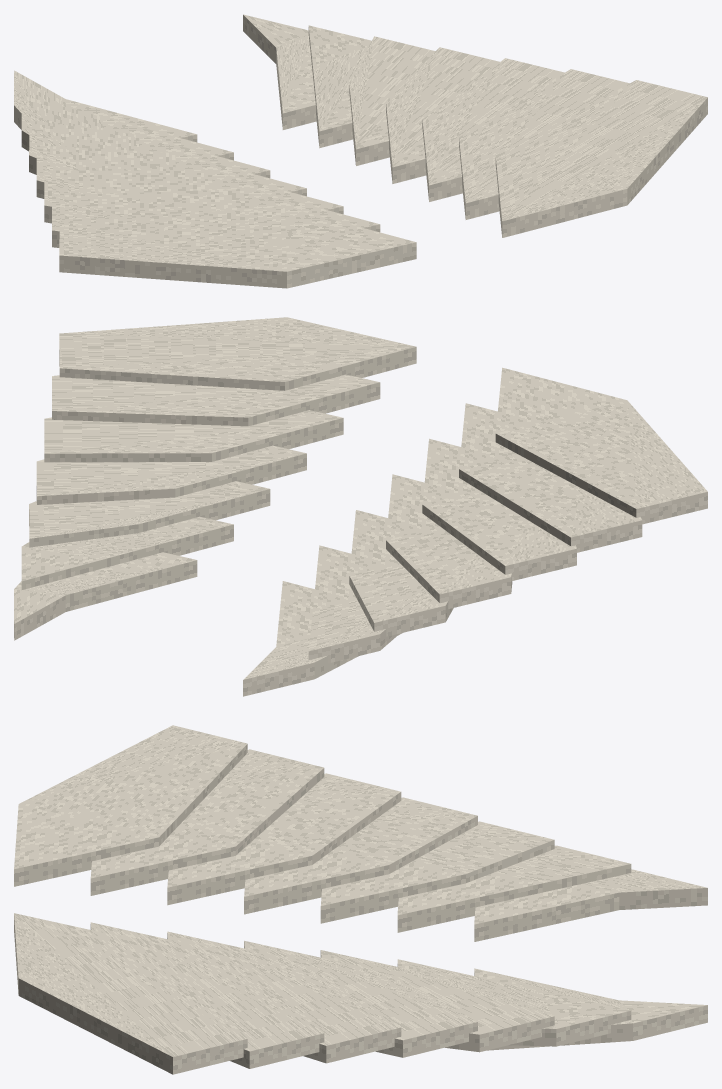
The model's file is angel_wings.glb.
The picture shows the model from 3 angles, top to bottom: view 1: azimuth 30°, elevation 25°; view 2: azimuth 150°, elevation 25°; view 3: azimuth 270°, elevation 25°; orthographic projection. The views are drawn at different scales.
Parts seen in each view (by area): view 1: block_layered white feathers (×14); view 2: block_layered white feathers (×14); view 3: block_layered white feathers (×14).
Part boxes in pixels (box(x1,y1,x2,y2)): block_layered white feathers (×14): box(14, 14, 707, 288); block_layered white feathers (×14): box(14, 317, 707, 696); block_layered white feathers (×14): box(14, 725, 707, 1074).
Size of the model in its own units: 1.06 by 0.1085 by 0.9365.
1 material, 1 textured.
